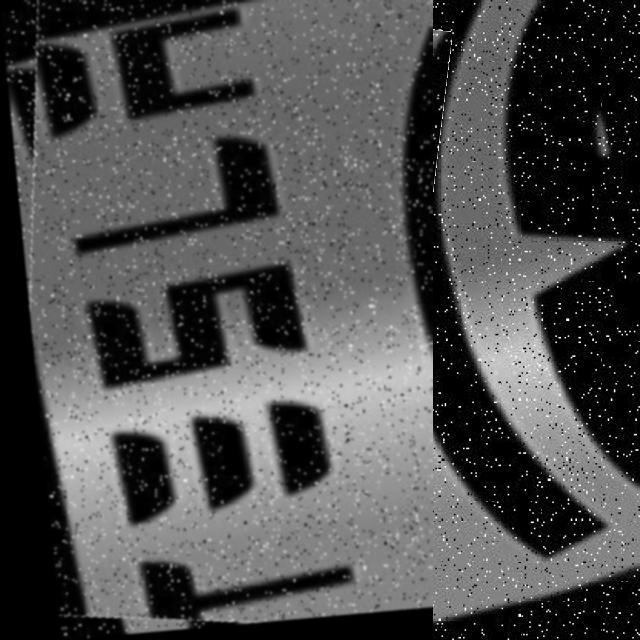Tesla: (0, 0, 433, 640)
